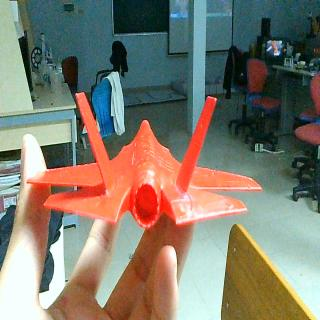Jet: (28, 90, 262, 230)
